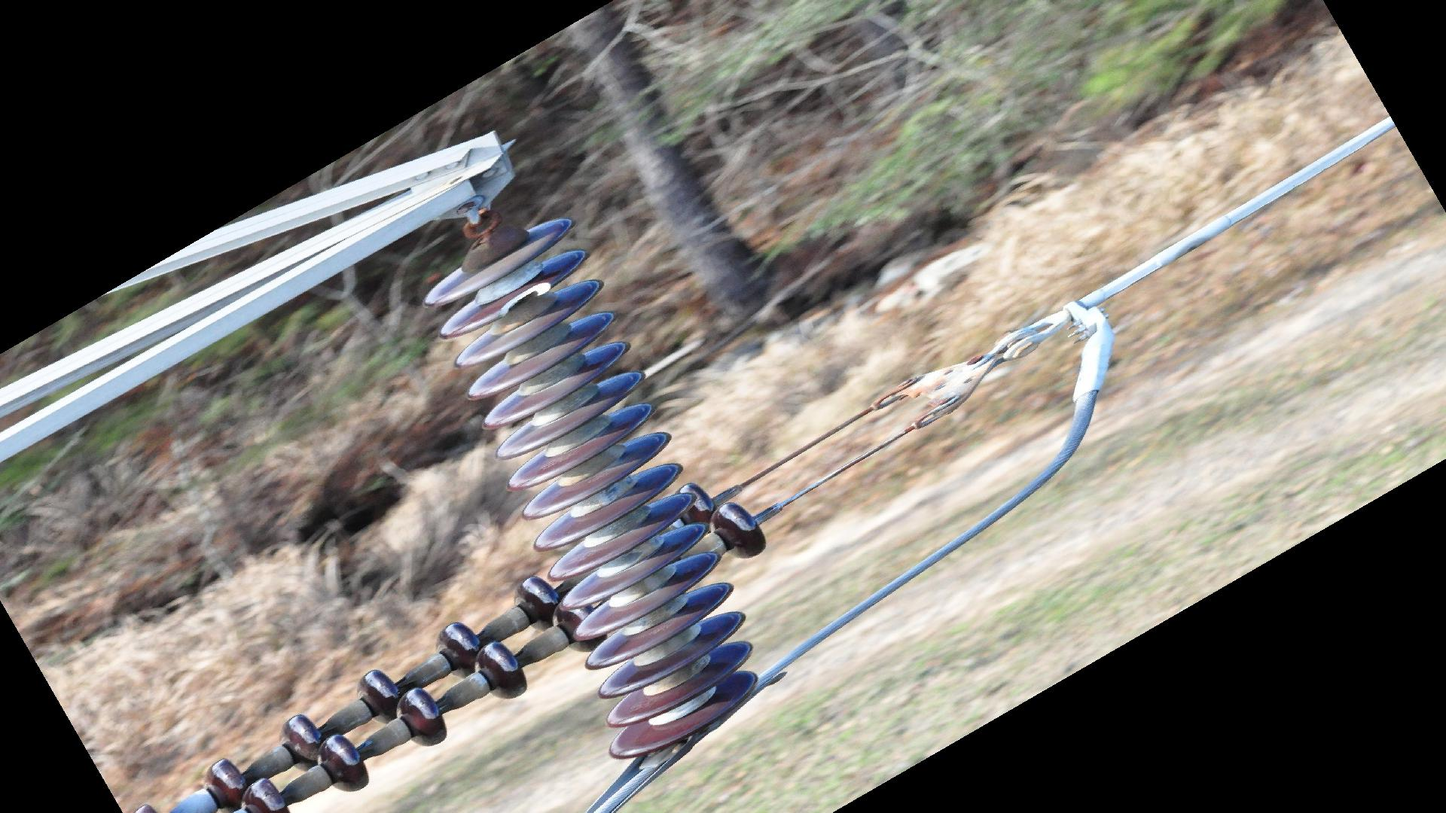insulator: (413, 217, 763, 765), (201, 570, 588, 813), (670, 478, 771, 562)
insulator_breakage: (491, 278, 556, 323)
